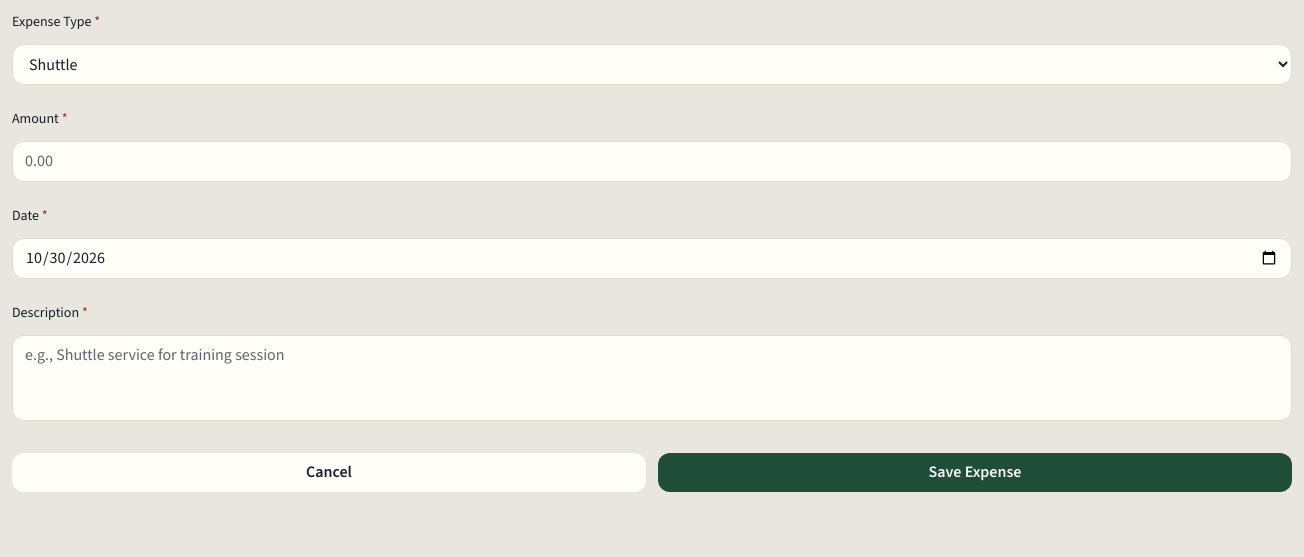
Test: AddExpenseForm › Form Cancel › clears error messages when cancel is clicked
Click the button "Save Expense". click: (975, 473)
box: [658,453,1292,492]
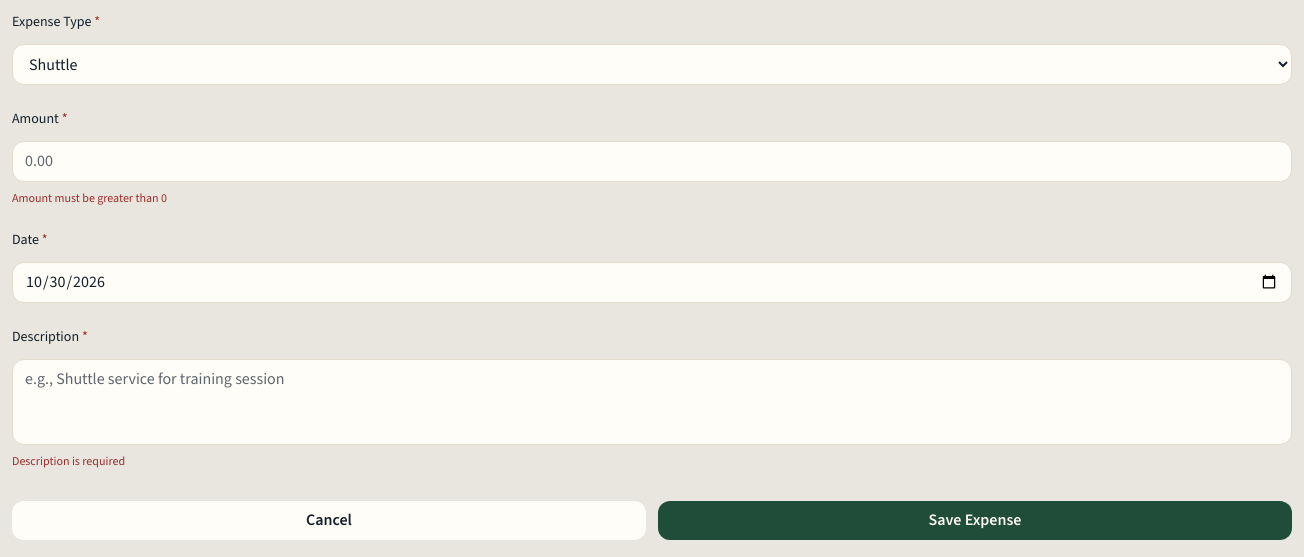
Result: the text "Amount must be greater than 0" is shown at [12,190,167,206]
Click the button "Cancel". click: (329, 521)
box: [12,501,646,540]
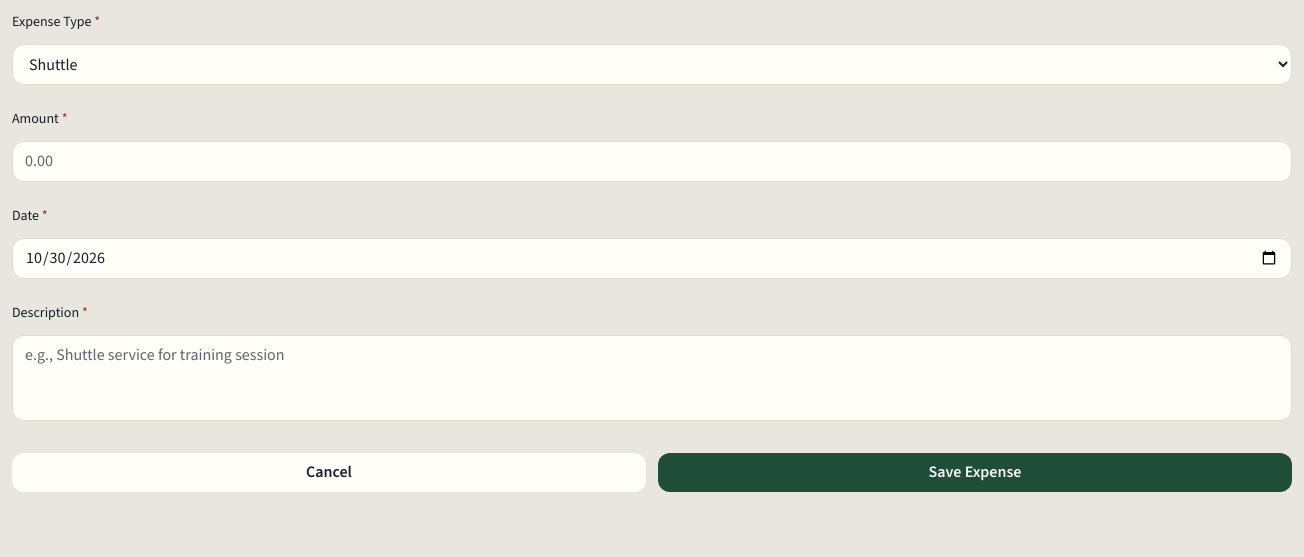
Result: the text "Amount must be greater than 0" is gone
